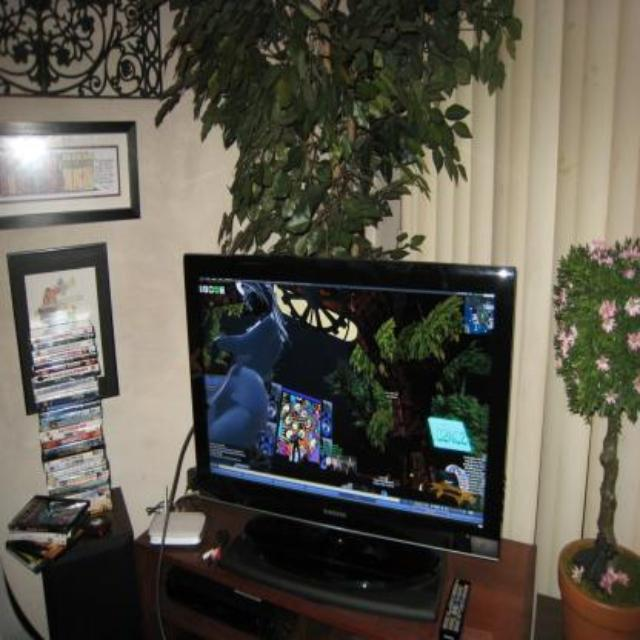Flat-Panel-TV: (154, 233, 524, 629)
TV-Remote-Control: (438, 564, 470, 640)
